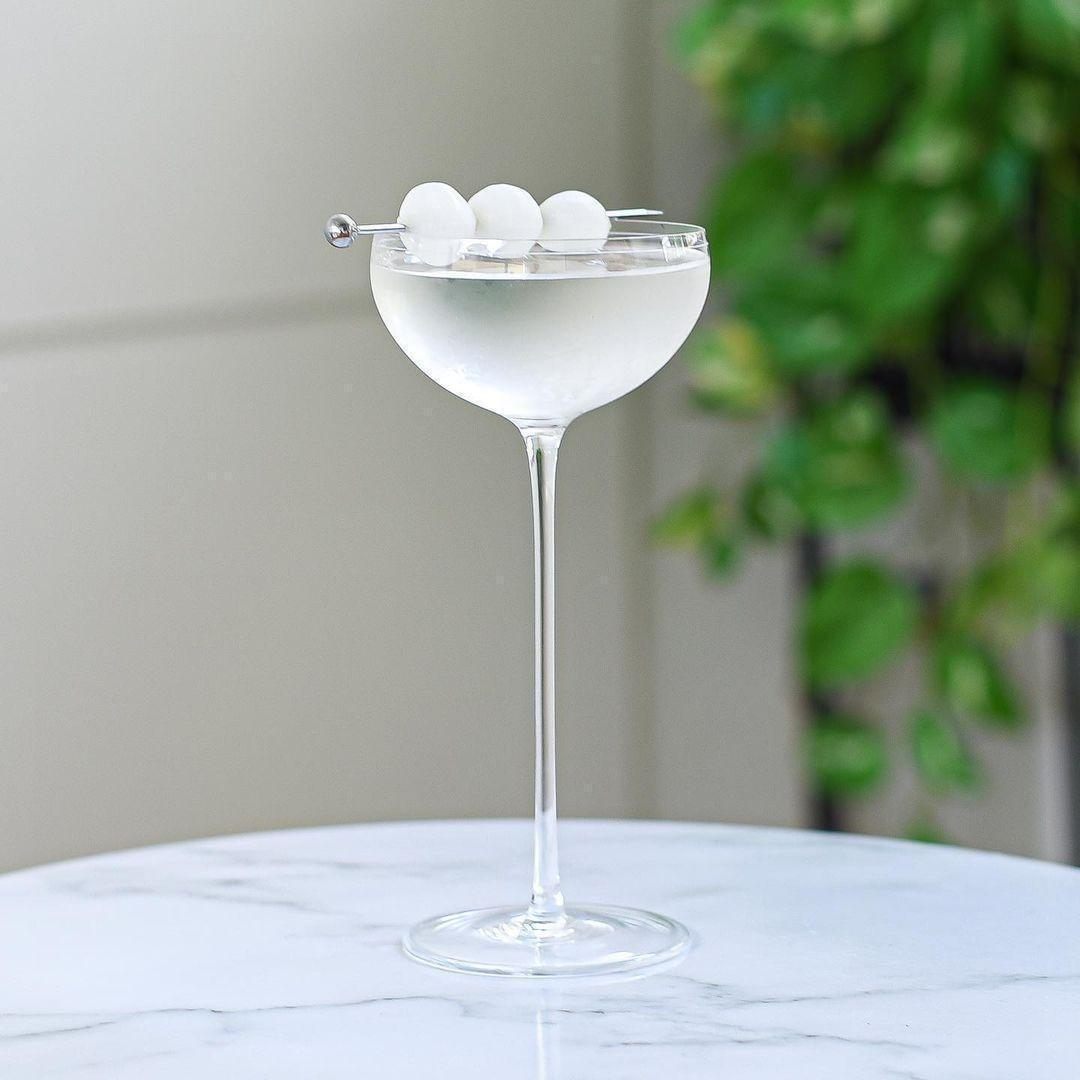glass-wine: (366, 196, 717, 997)
